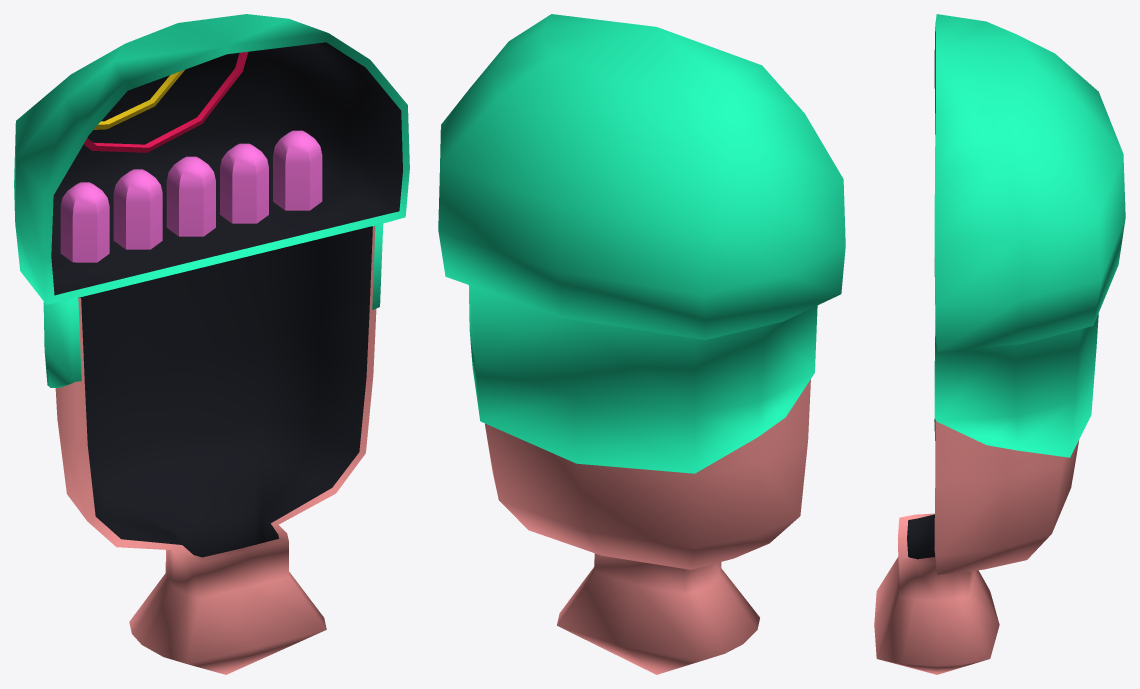
File: convobot_faceback.fbx
3 views of the same model, side by side, from view 1: azimuth 30°, elevation 25°; view 2: azimuth 150°, elevation 25°; view 3: azimuth 270°, elevation 25° (orthographic). The views are drawn at different scales.
Visible parts, largest first — view 1: head_back, hair_bowl_back, hair_back, Capsule, Capsule_3, Capsule_4, Capsule_2, Capsule_1, wire_red, wire_yellow; view 2: hair_bowl_back, head_back, hair_back; view 3: hair_bowl_back, head_back, hair_back.
Boxes of the visible parts, box(x1,y1,x2,y2) form: head_back: box(55, 226, 376, 674); hair_bowl_back: box(14, 14, 409, 304); hair_back: box(43, 223, 383, 387); Capsule: box(166, 156, 215, 236); Capsule_3: box(113, 169, 162, 249); Capsule_4: box(60, 182, 109, 262); Capsule_2: box(273, 130, 322, 210); Capsule_1: box(220, 143, 268, 223); wire_red: box(84, 51, 248, 152); wire_yellow: box(94, 70, 184, 129); hair_bowl_back: box(438, 14, 845, 339); head_back: box(485, 379, 810, 674); hair_back: box(468, 285, 817, 473); hair_bowl_back: box(934, 14, 1125, 351); head_back: box(874, 335, 1078, 674); hair_back: box(934, 257, 1098, 457).
Size of the model in its own units: 691 by 1132 by 413.
